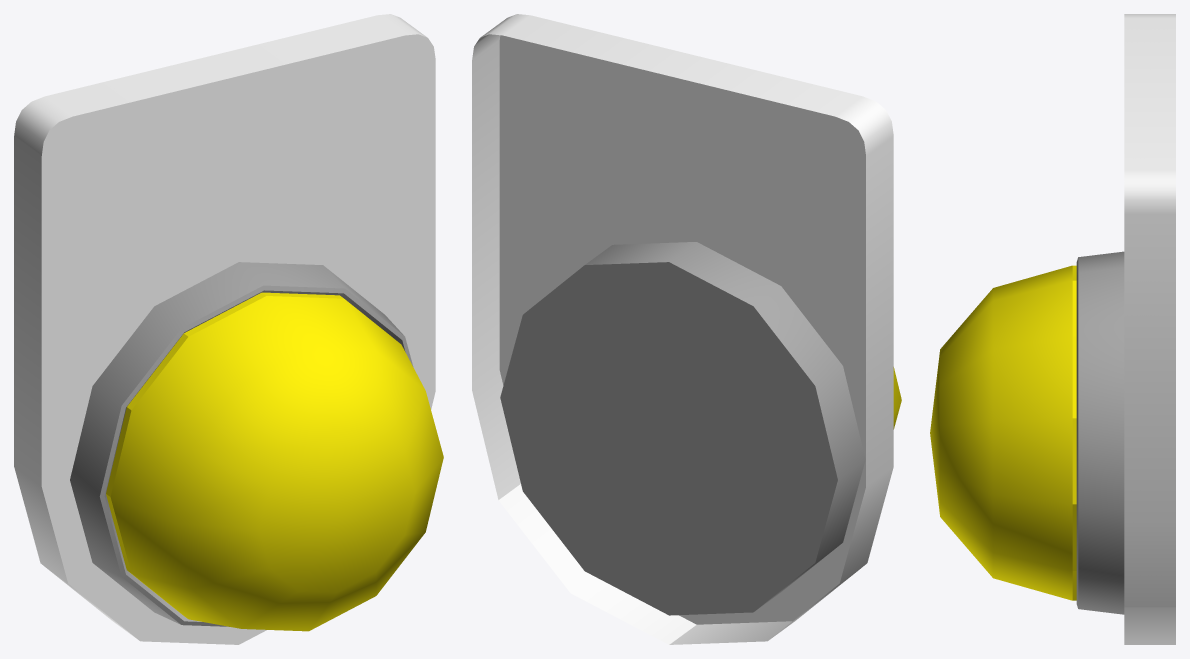
Rendered from button_ON_YELLOW1.fbx.
3 views of the same model, side by side, from view 1: azimuth 30°, elevation 25°; view 2: azimuth 150°, elevation 25°; view 3: azimuth 270°, elevation 25° (orthographic). The views are drawn at different scales.
Visible parts, largest first — view 1: button_ON_YELLOW1; view 2: button_ON_YELLOW1; view 3: button_ON_YELLOW1.
Part boxes in pixels (x1,y1,x2,y2): button_ON_YELLOW1: (14, 14, 443, 644); button_ON_YELLOW1: (472, 14, 901, 644); button_ON_YELLOW1: (930, 14, 1175, 644).
Bounding box in the file's own units: 0.0293 × 0.0405 × 0.017.
1 material, 1 textured.
